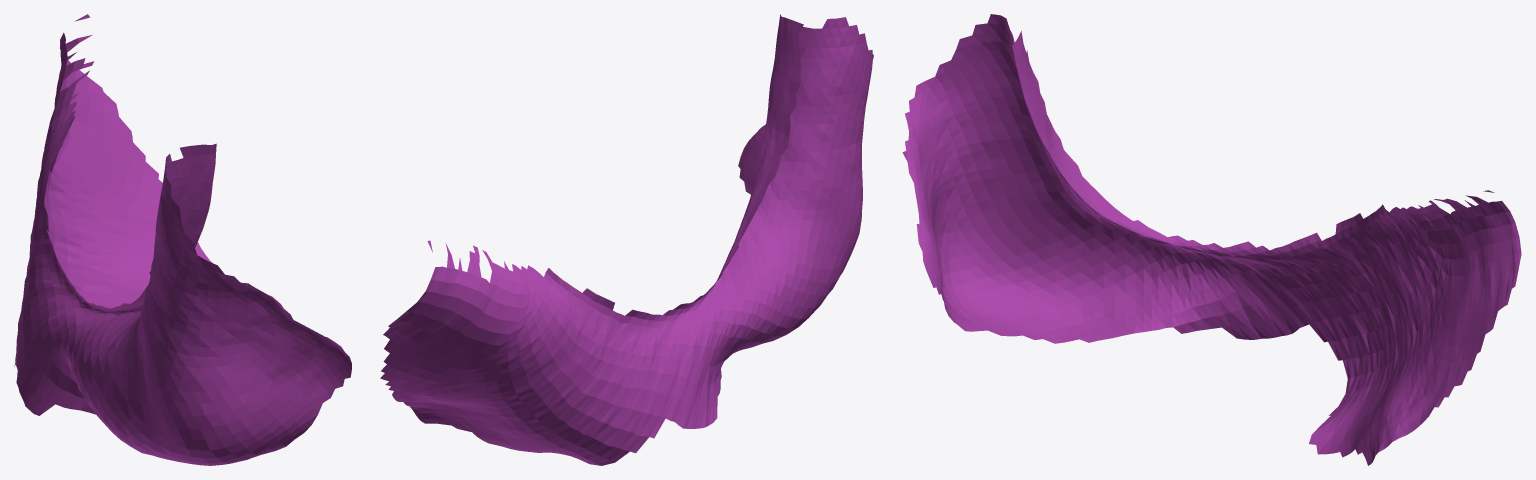
File: rh_isthmuscingulate.glb
The picture shows the model from 3 angles, left to right: view 1: azimuth 30°, elevation 25°; view 2: azimuth 150°, elevation 25°; view 3: azimuth 270°, elevation 25°; orthographic projection. The views are drawn at different scales.
Parts seen in each view (by area): view 1: world; view 2: world; view 3: world.
Boxes of the visible parts, x1,y1,x2,y2 form: world: (14,14,351,465); world: (380,14,873,465); world: (902,14,1521,465).
Size of the model in its own units: 20.03 by 26.81 by 41.38.
